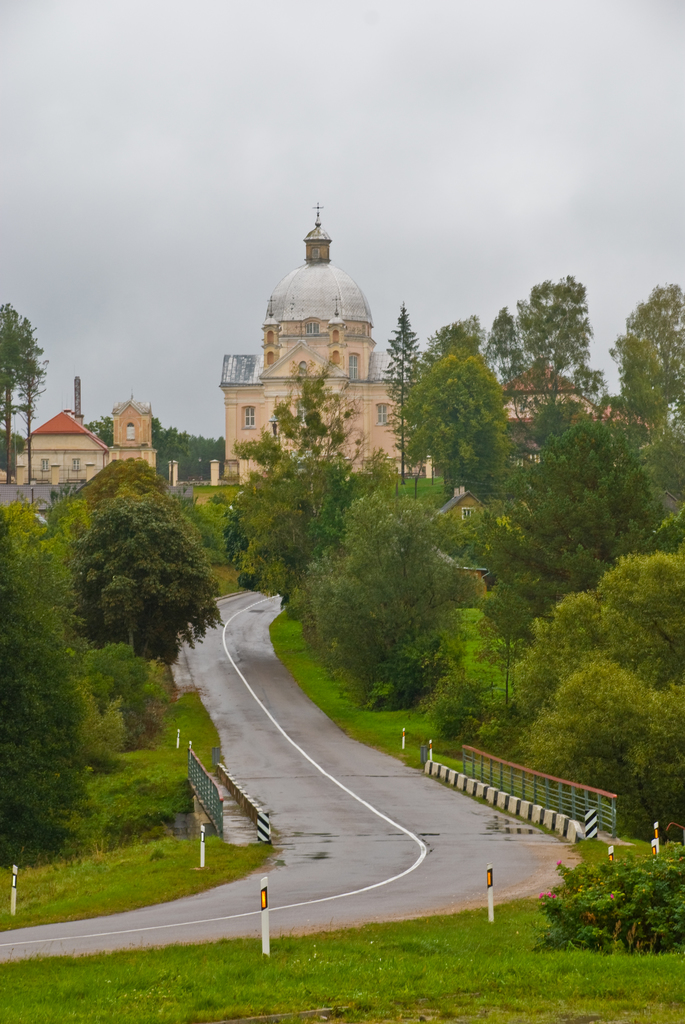Tree: (0, 503, 230, 853), (459, 389, 681, 643), (232, 357, 410, 600), (38, 456, 225, 664), (513, 646, 684, 823), (536, 538, 684, 716), (398, 311, 534, 503), (473, 280, 637, 433), (372, 300, 452, 515), (417, 627, 545, 743), (605, 272, 684, 435)
